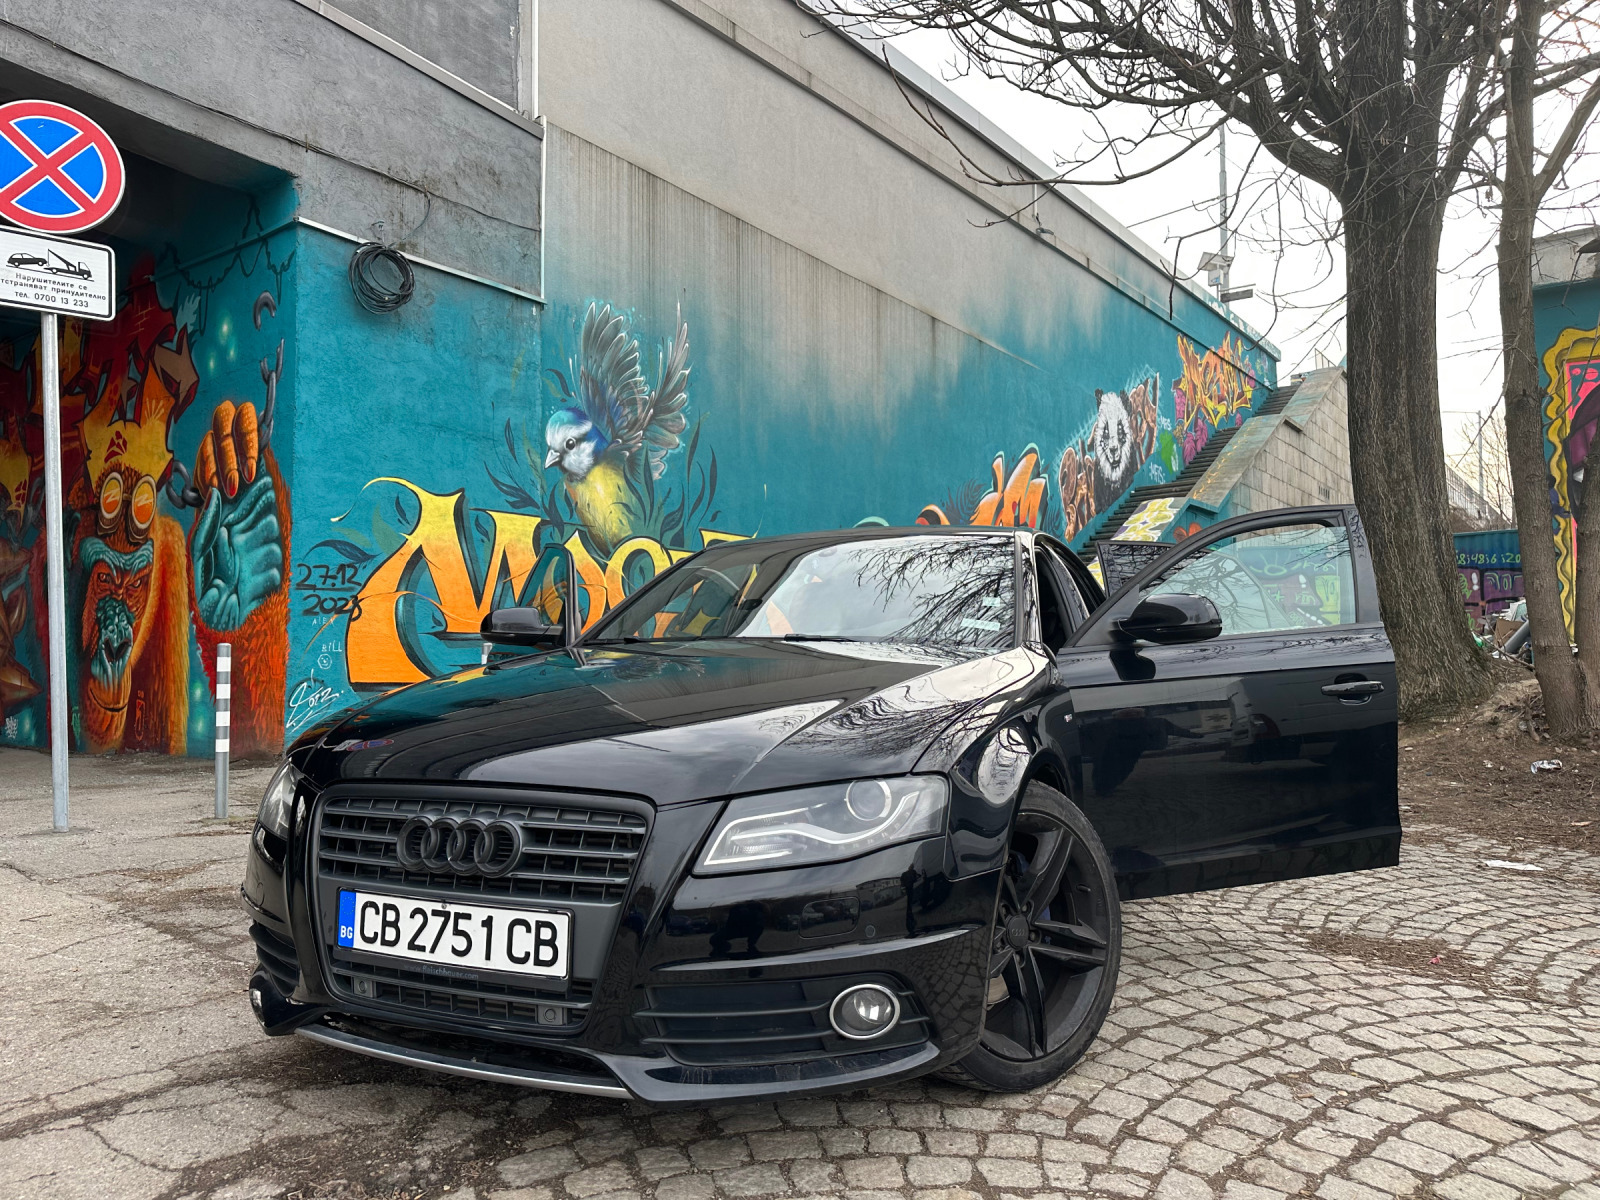registration_plate: (336, 891, 571, 984)
